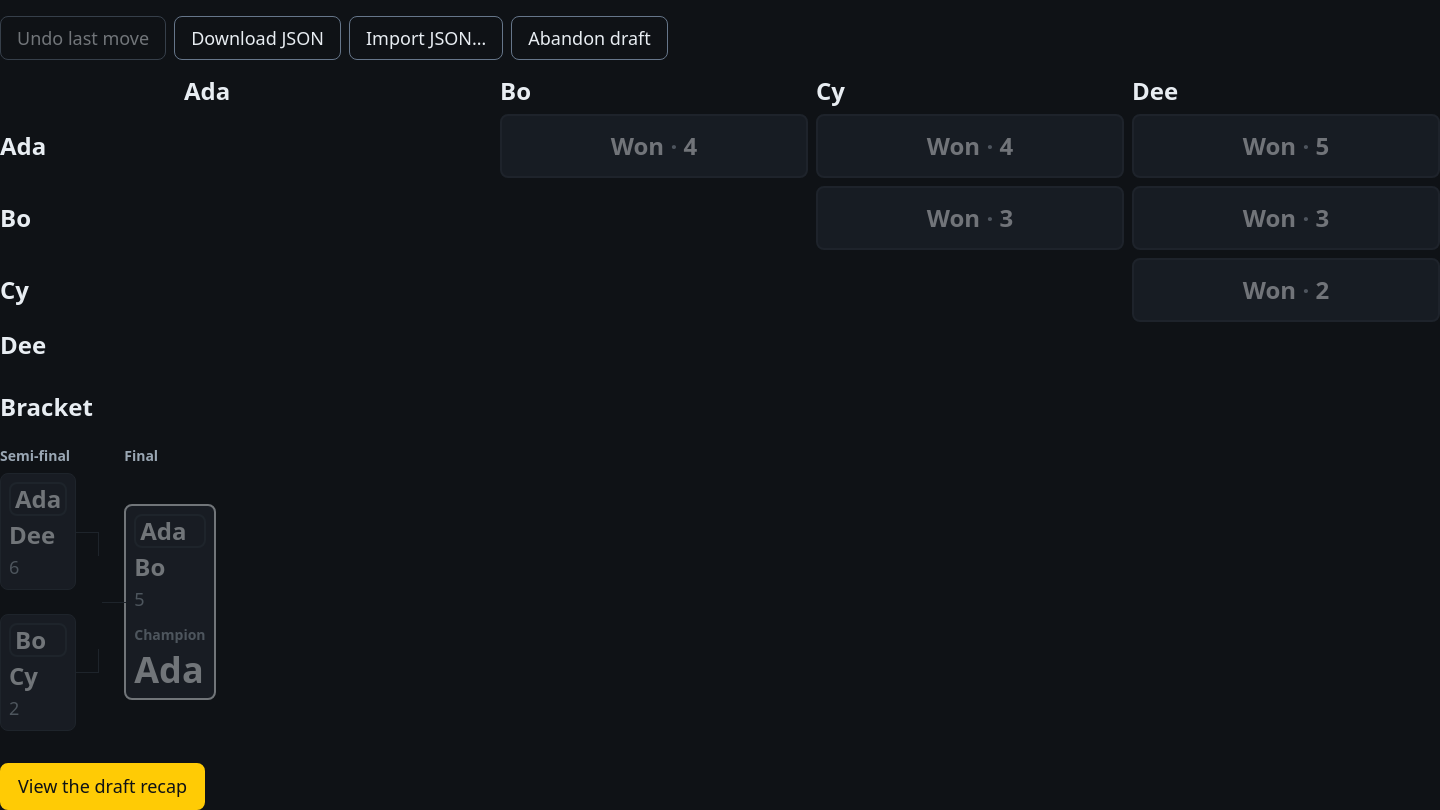
corrections › leaves the superseded result in chronological position
(page scrolled)
Click the button "View the draft recap".
click(103, 787)  # box [0,763,205,809]
(page scrolled)
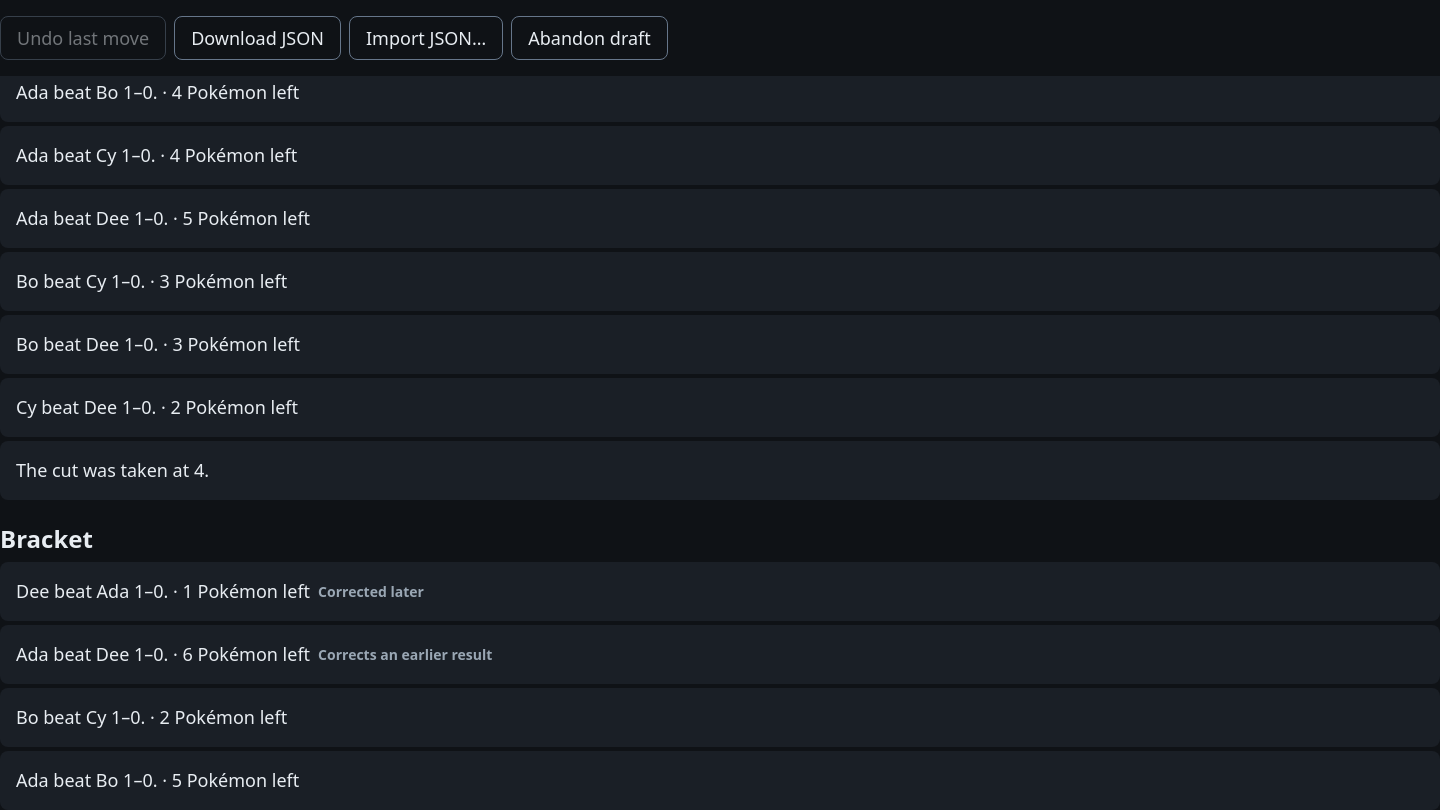
Expected: the text with class "recap-list__line" shows "Dee beat Ada", [16,579,310,603]
Expected: the text with class "recap-list__line" shows "Ada beat Dee", [16,642,310,666]
